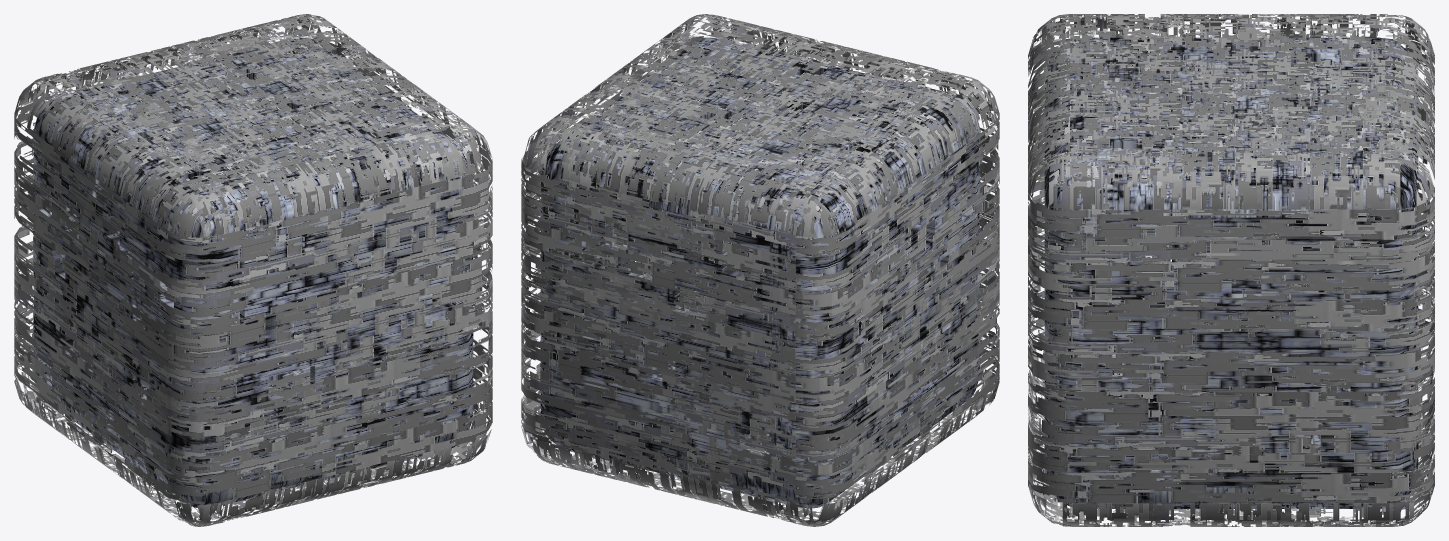
File: mqg1`753bjs.FBX
3 views of the same model, side by side, from view 1: azimuth 30°, elevation 25°; view 2: azimuth 150°, elevation 25°; view 3: azimuth 270°, elevation 25° (orthographic). The views are drawn at different scales.
Visible parts, largest first — view 1: ChamferBox002, ChamferBox001; view 2: ChamferBox002, ChamferBox001; view 3: ChamferBox002, ChamferBox001.
Boxes of the visible parts, x1,y1,x2,y2 form: ChamferBox002: (14,14,492,526); ChamferBox001: (33,37,473,507); ChamferBox002: (521,14,999,526); ChamferBox001: (540,37,980,508); ChamferBox002: (1028,14,1434,526); ChamferBox001: (1044,37,1418,508).
Bounding box in the file's own units: 91.54 × 91.54 × 91.54.
